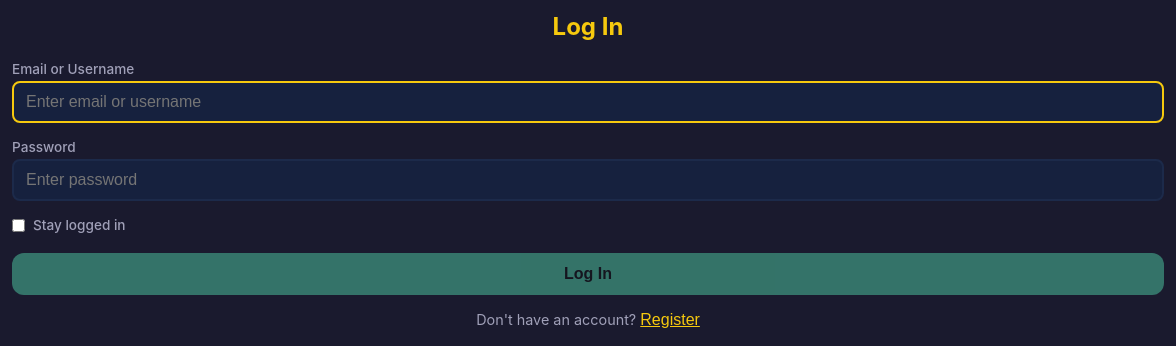
LoginForm › shows loading state during submit
Type "testuser" into the field labelled "Email or Username".
click(588, 102); type("testuser")  # box [12,81,1164,123]
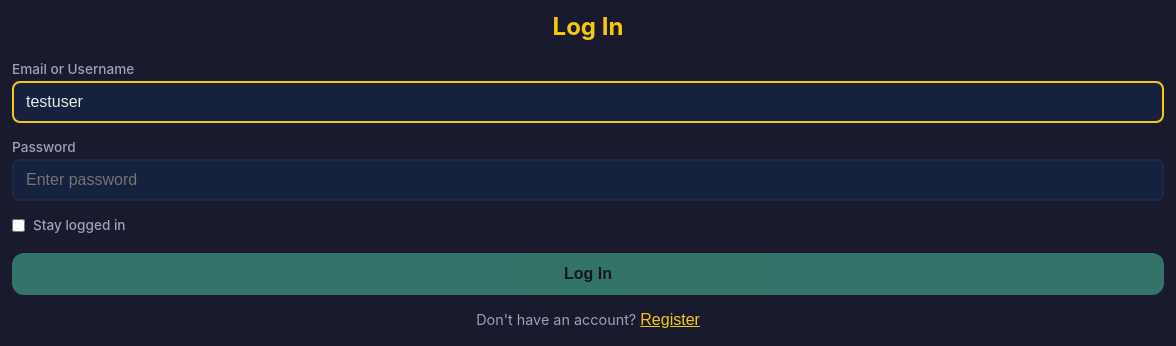
Type "password123!" into the password field labelled "Password".
click(588, 180); type("password123!")  # box [12,159,1164,201]
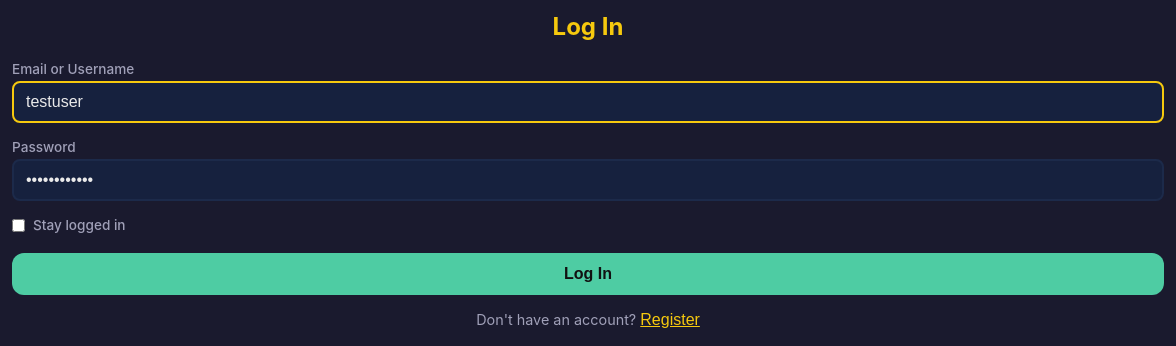
Submit the form labelled "Email or Username"
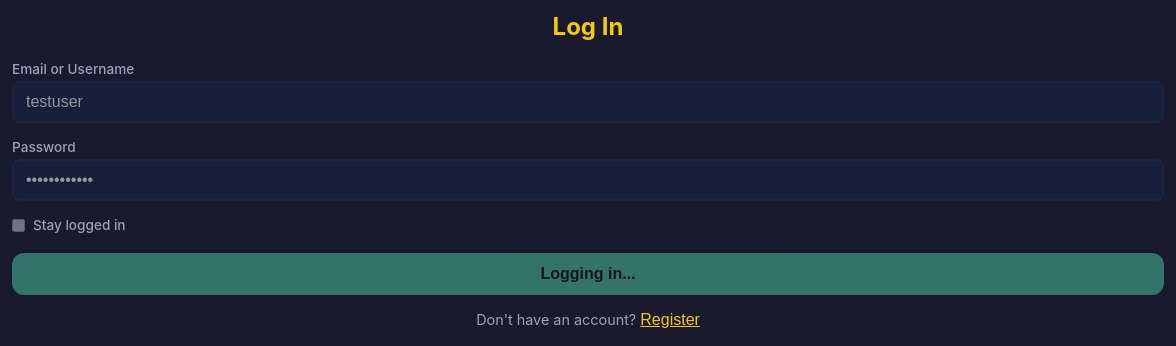
Result: the button "Logging in..." is shown at [12,253,1164,295]
